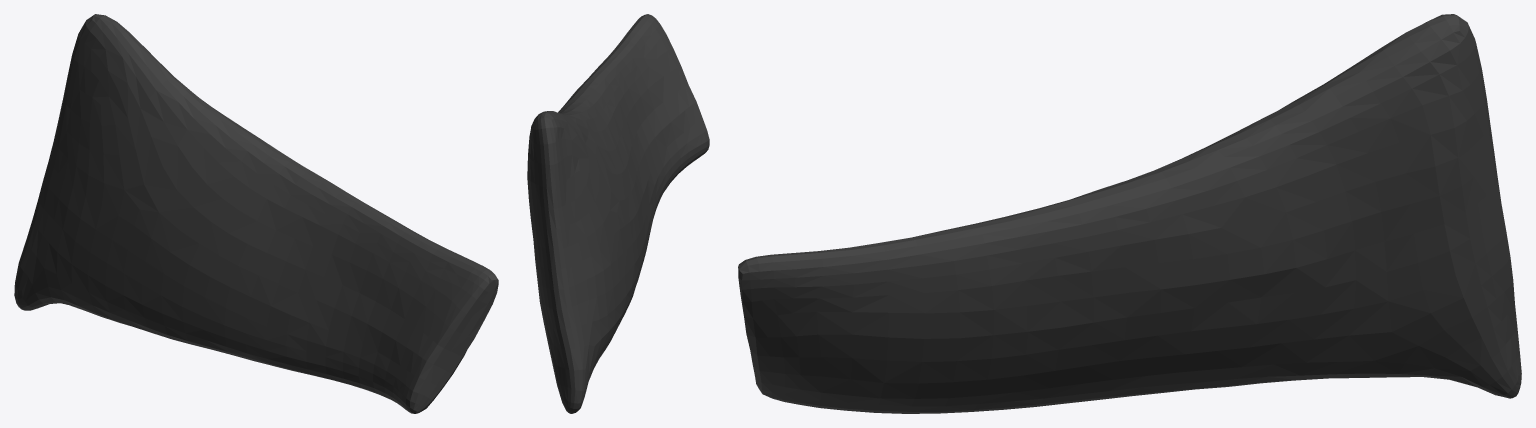
The model's file is m_thyroarytenoideus_LO_L.glb.
3 views of the same model, side by side, from view 1: azimuth 30°, elevation 25°; view 2: azimuth 150°, elevation 25°; view 3: azimuth 270°, elevation 25° (orthographic). The views are drawn at different scales.
Visible parts, largest first — view 1: m_thyroarytenoideus_LO_L; view 2: m_thyroarytenoideus_LO_L; view 3: m_thyroarytenoideus_LO_L.
Part boxes in pixels (x1=…): m_thyroarytenoideus_LO_L: x1=14, y1=14, x2=498, y2=413; m_thyroarytenoideus_LO_L: x1=527, y1=14, x2=709, y2=413; m_thyroarytenoideus_LO_L: x1=738, y1=14, x2=1521, y2=413.
Bounding box in the file's own units: 0.0808 × 0.1114 × 0.1899.
1 material, 1 textured.
